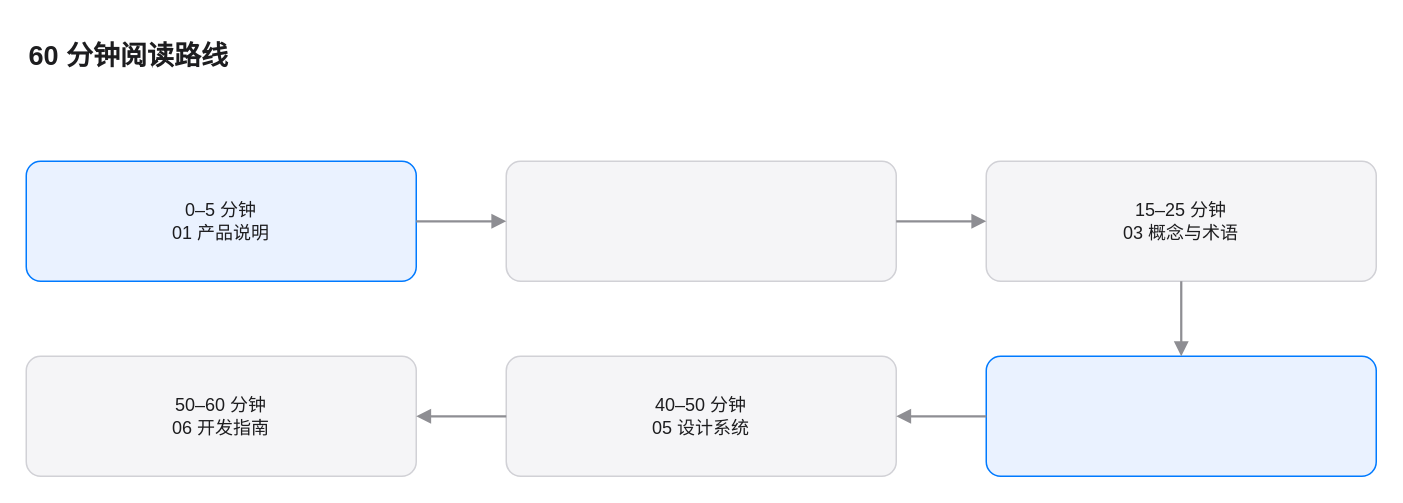
This 1403x503 diagram has some shape labels left out. Here are the shapes that lost their labels. From the top down, the centre of each, then its label:
At [700,220]: "5–15 分钟 02 快速开始".
At [1180,415]: "25–40 分钟 04 架构".
